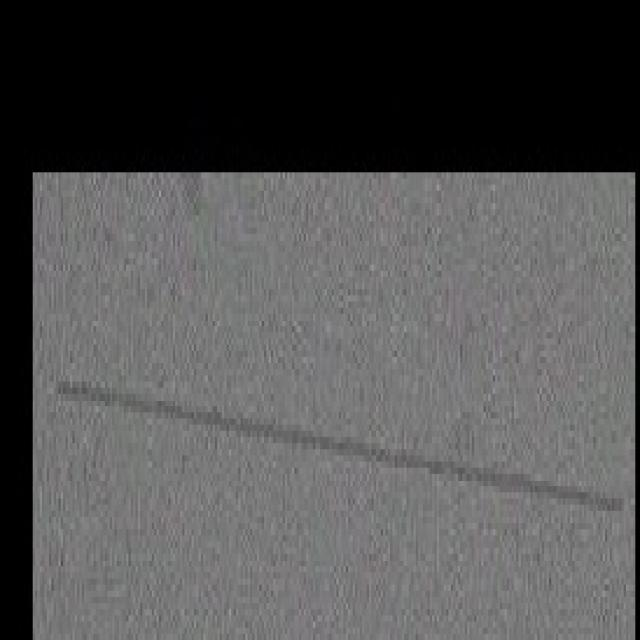Defect4: (46, 290, 626, 574)
